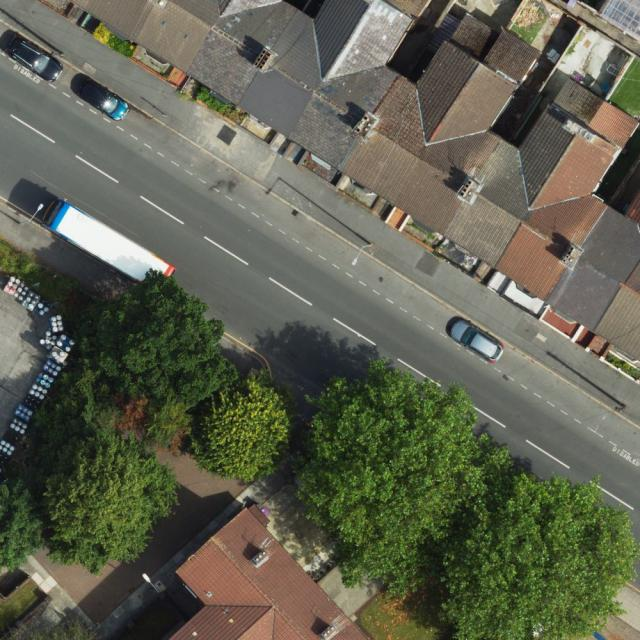roof: (71, 0, 640, 362), (168, 505, 372, 639)
